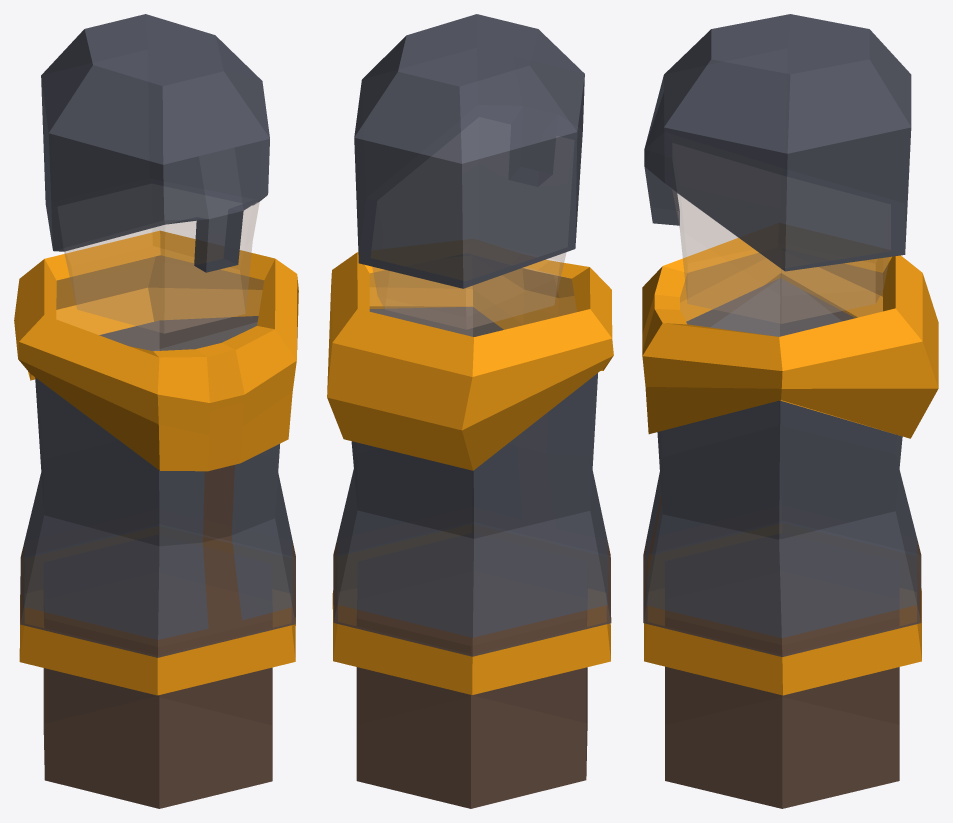
Rendered from Kevin.fbx.
3 views of the same model, side by side, from view 1: azimuth 30°, elevation 25°; view 2: azimuth 150°, elevation 25°; view 3: azimuth 270°, elevation 25° (orthographic).
Visible parts, largest first — view 1: S_Kevin_Body, S_Kevin_Head; view 2: S_Kevin_Body, S_Kevin_Head; view 3: S_Kevin_Body, S_Kevin_Head.
Boxes of the visible parts, x1=… form: S_Kevin_Body: x1=14, y1=230, x2=298, y2=808; S_Kevin_Head: x1=41, y1=14, x2=269, y2=333; S_Kevin_Body: x1=327, y1=252, x2=613, y2=808; S_Kevin_Head: x1=354, y1=14, x2=584, y2=329; S_Kevin_Body: x1=642, y1=238, x2=938, y2=808; S_Kevin_Head: x1=644, y1=14, x2=911, y2=323.
Size of the model in its own units: 44.77 by 107 by 40.39.
